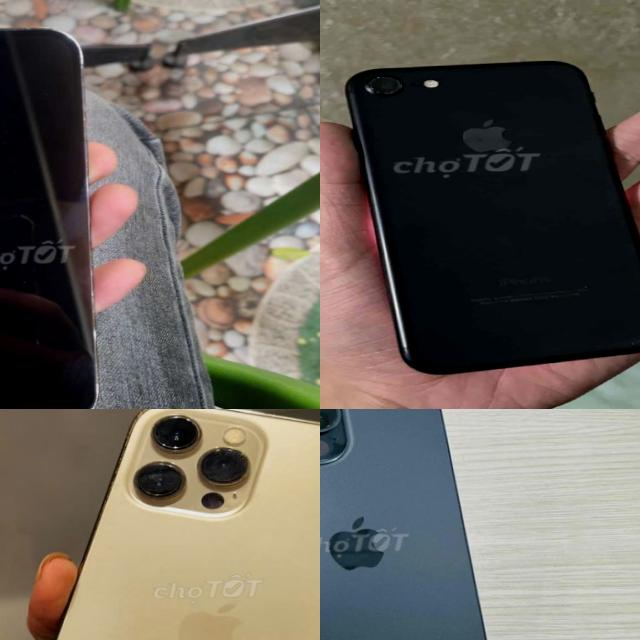gen_12_13: (0, 409, 320, 640), (0, 20, 105, 409)
gen_15: (320, 409, 524, 640)
gen_7_8: (341, 52, 640, 373)
scratch: (366, 72, 408, 94), (618, 336, 640, 348), (580, 280, 598, 293)
